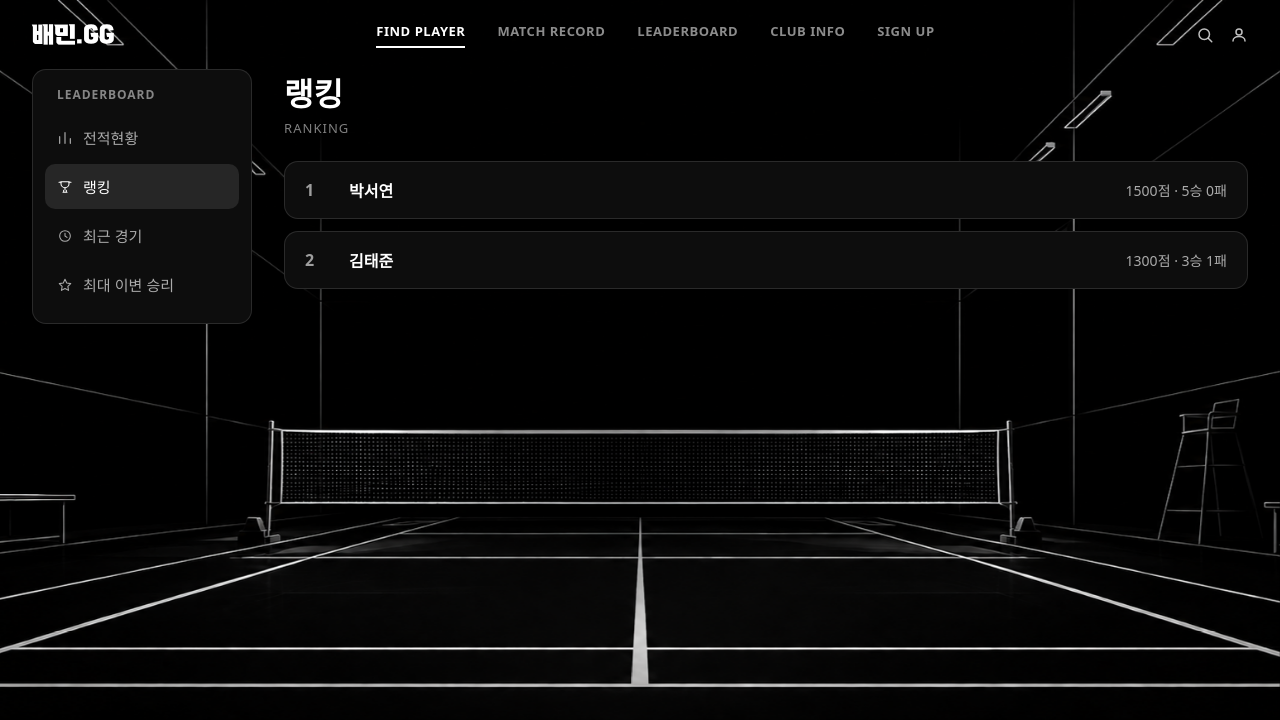
Test: switching to the 최근 경기 tab shows recent matches with the winner marked
Click the button "최근 경기". click: (142, 236)
box: [45,213,239,258]
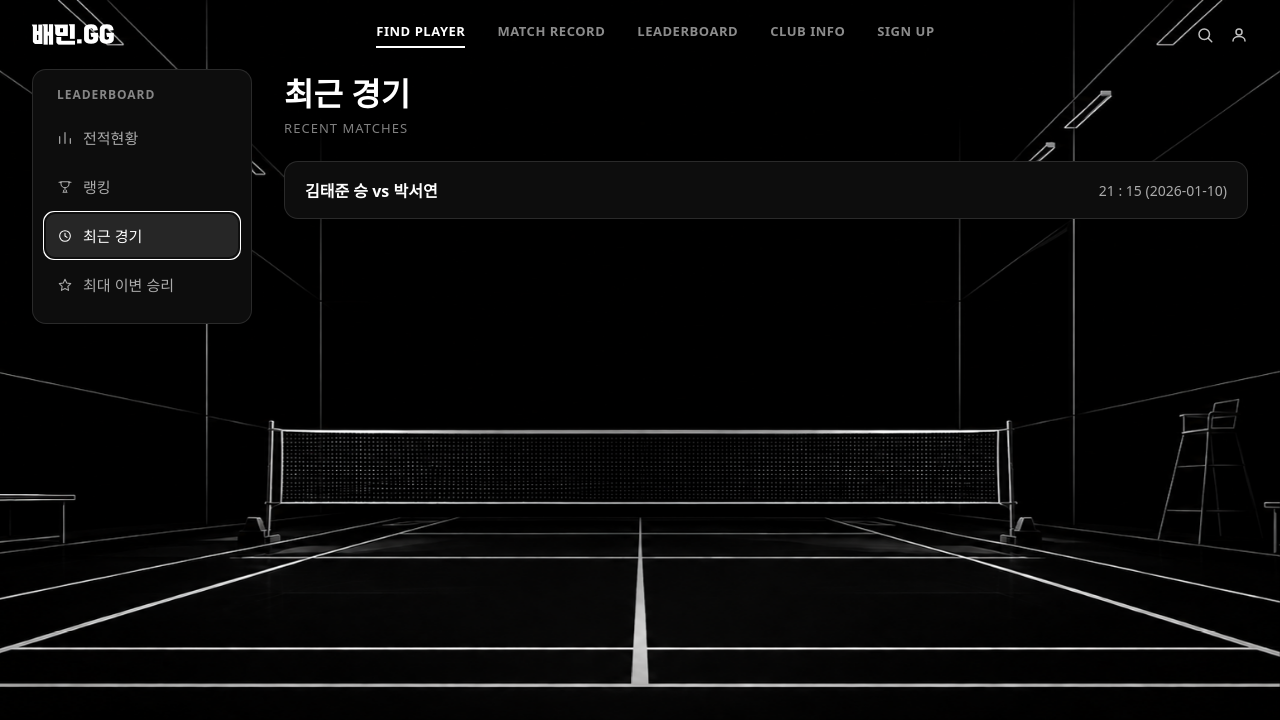
Now the text "김태준 승 vs 박서연" is shown, box [305,180,438,202]
